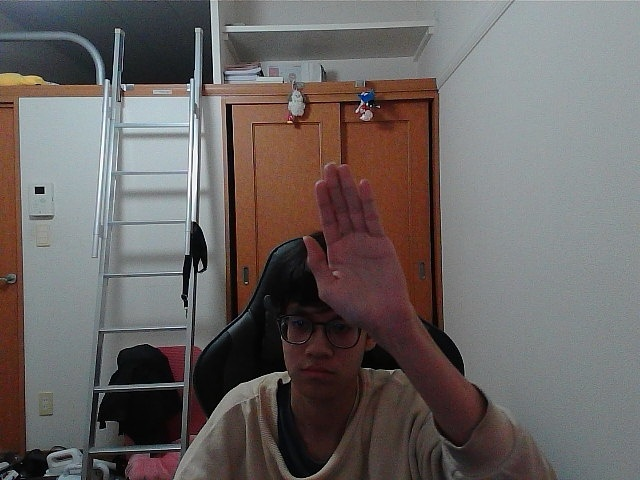open_palm: (309, 179, 382, 308)
